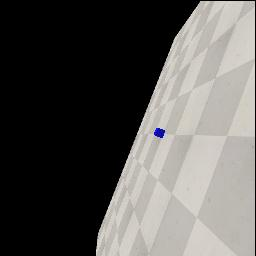box: (154, 128, 165, 138)
